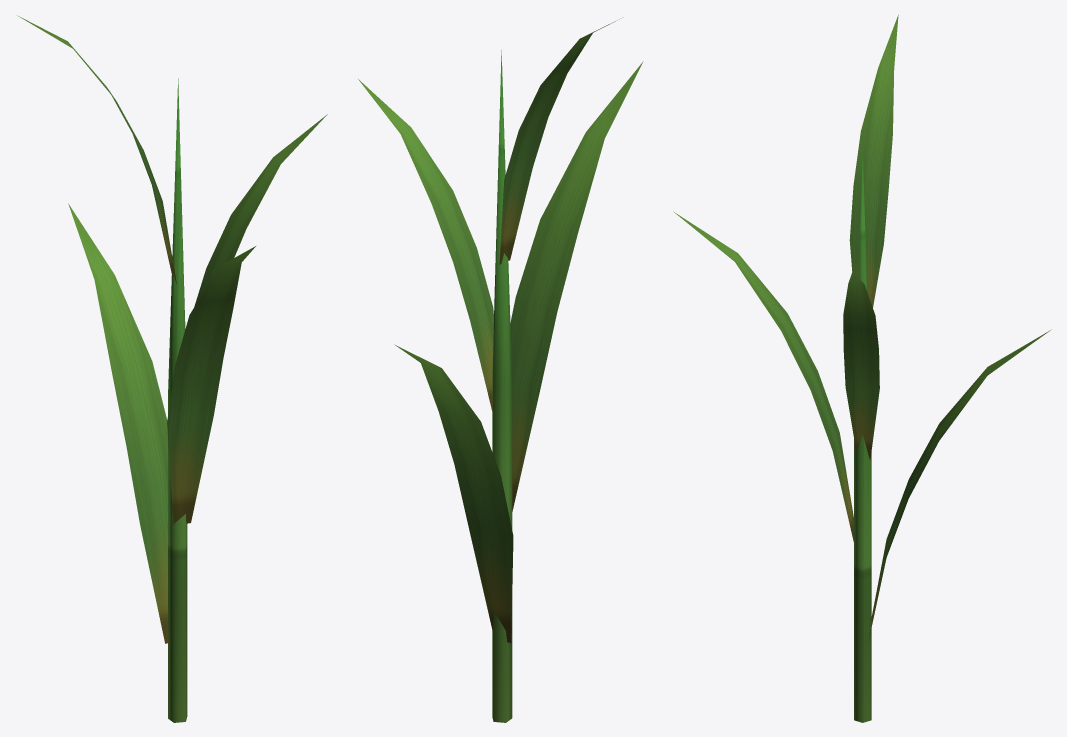
The model's file is reed_small.fbx.
3 views of the same model, side by side, from view 1: azimuth 30°, elevation 25°; view 2: azimuth 150°, elevation 25°; view 3: azimuth 270°, elevation 25° (orthographic). The views are drawn at different scales.
Parts seen in each view (by area): view 1: reed_small; view 2: reed_small; view 3: reed_small.
Boxes of the visible parts, x1=… form: reed_small: x1=17, y1=15, x2=327, y2=722; reed_small: x1=358, y1=17, x2=643, y2=722; reed_small: x1=673, y1=14, x2=1051, y2=722.
Size of the model in its own units: 17.93 by 43.17 by 23.15.
